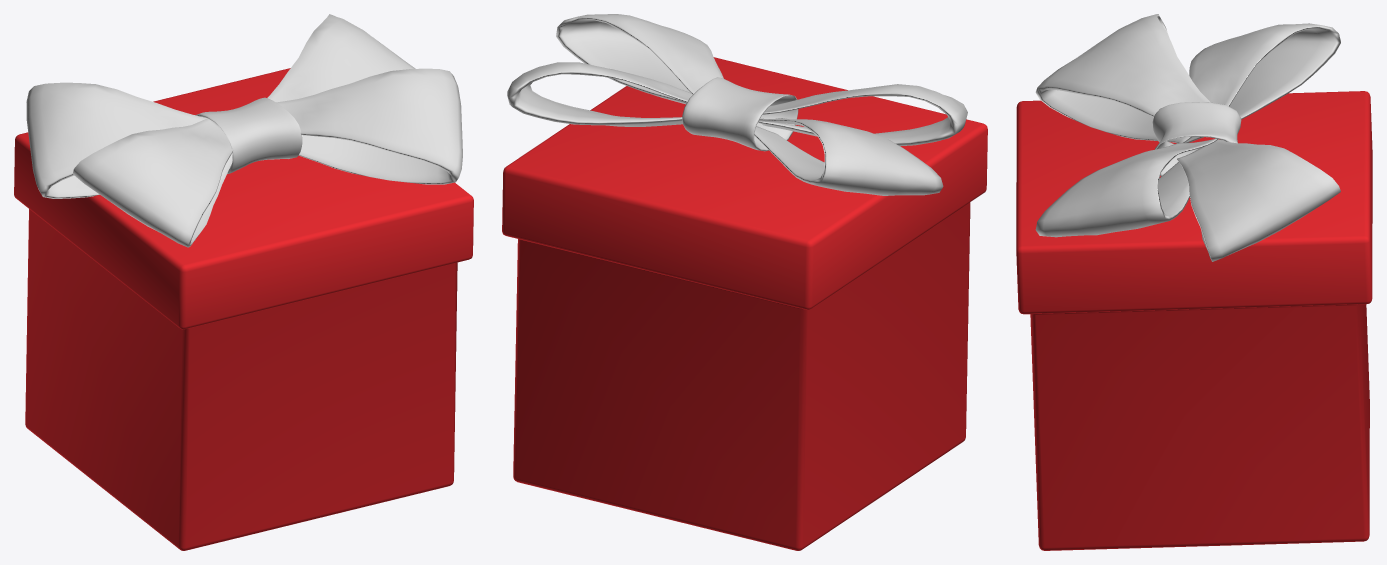
Rendered from BaltasarRegalo.fbx.
3 renders of one model, left to right at view 1: azimuth 30°, elevation 25°; view 2: azimuth 150°, elevation 25°; view 3: azimuth 270°, elevation 25°, orthographic. The views are drawn at different scales.
Parts seen in each view (by area): view 1: RIBBON2.002; view 2: RIBBON2.002; view 3: RIBBON2.002.
Boxes of the visible parts, x1,y1,x2,y2 form: RIBBON2.002: (14,14,473,550); RIBBON2.002: (502,14,987,550); RIBBON2.002: (1016,14,1372,550).
Bounding box in the file's own units: 57.76 × 52.02 × 42.72.
